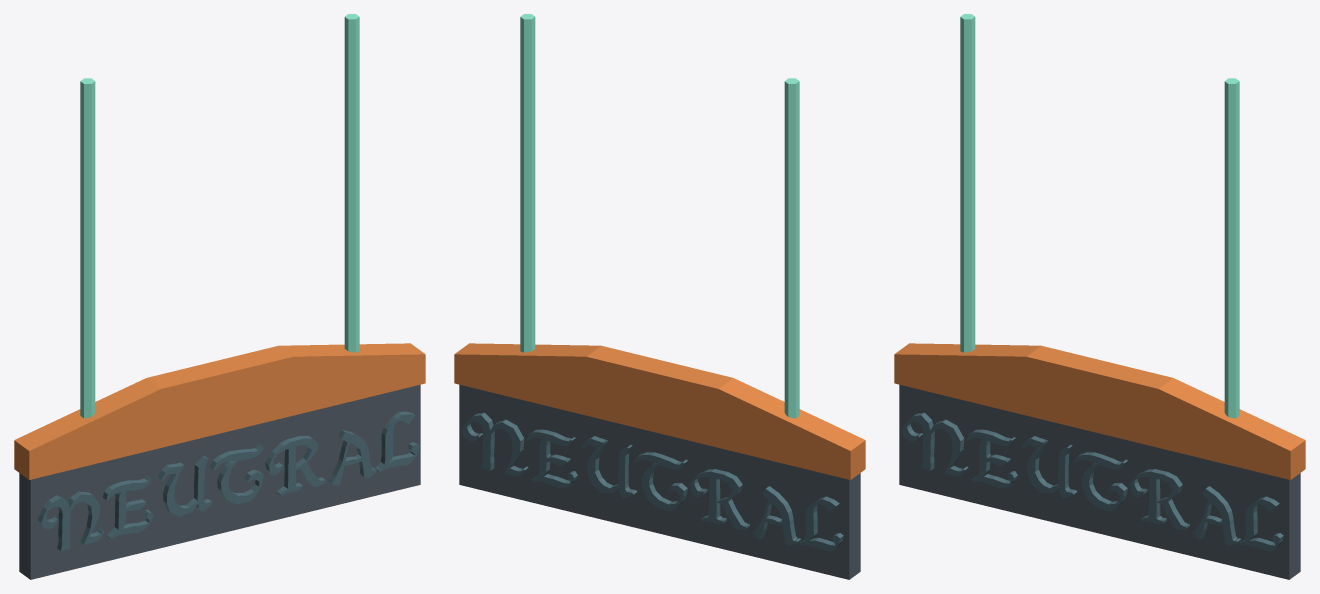
File: StoreSigns.fbx_Neutral.fbx
3 renders of one model, left to right at view 1: azimuth 30°, elevation 25°; view 2: azimuth 150°, elevation 25°; view 3: azimuth 330°, elevation 25°, orthographic.
Parts seen in each view (by area): view 1: Neutral; view 2: Neutral; view 3: Neutral.
Part boxes in pixels (<box>): Neutral: <box>14,14,425,579</box>; Neutral: <box>454,14,865,579</box>; Neutral: <box>894,14,1305,579</box>.
Bounding box in the file's own units: 52 × 610 × 705.
